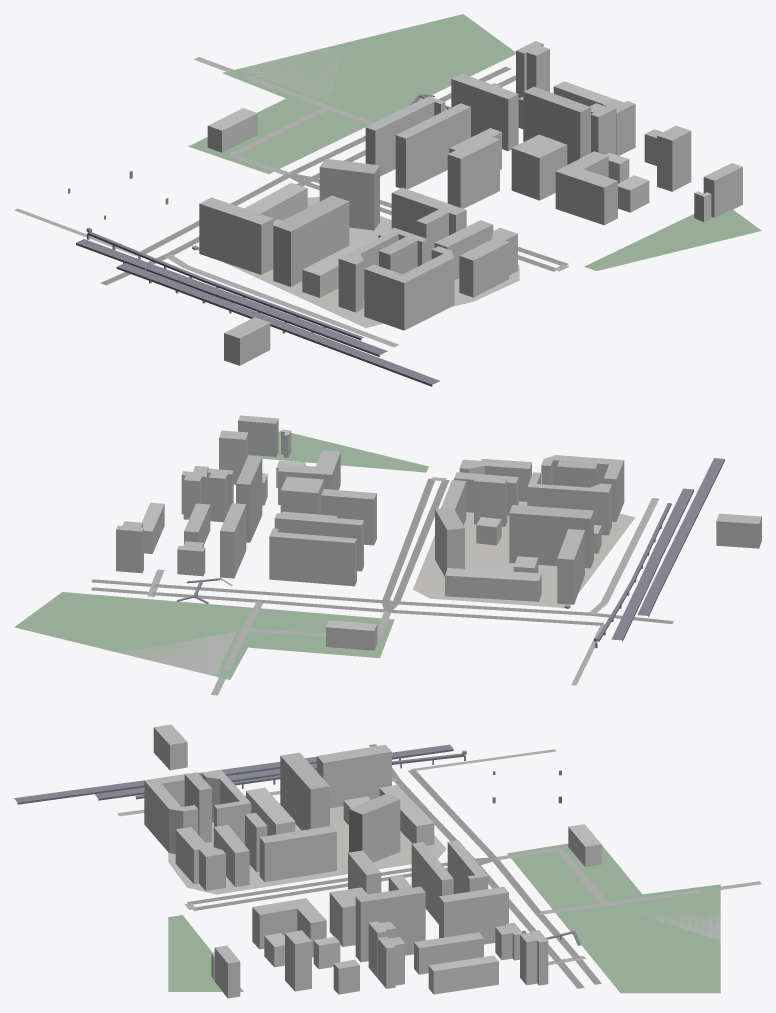
The picture shows the model from 3 angles, top to bottom: view 1: azimuth 30°, elevation 25°; view 2: azimuth 150°, elevation 25°; view 3: azimuth 270°, elevation 25°; orthographic projection. The views are drawn at different scales.
Bounding box in the file's own units: 544 × 61.61 × 677.
